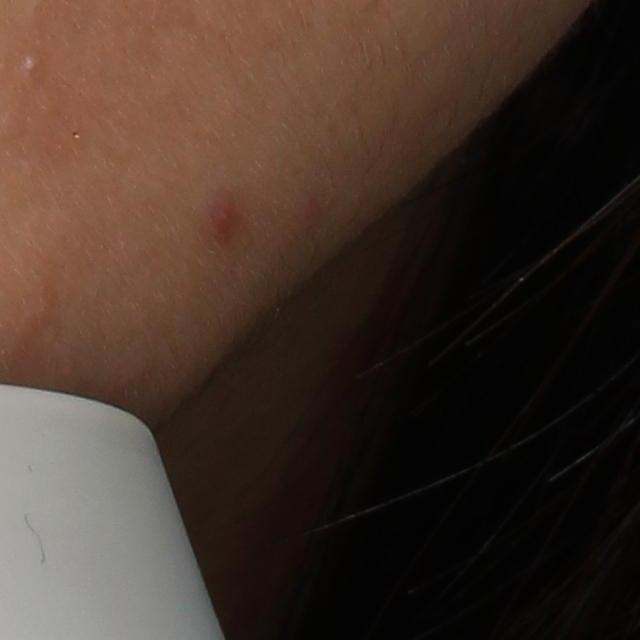comedo: (19, 52, 44, 77)
